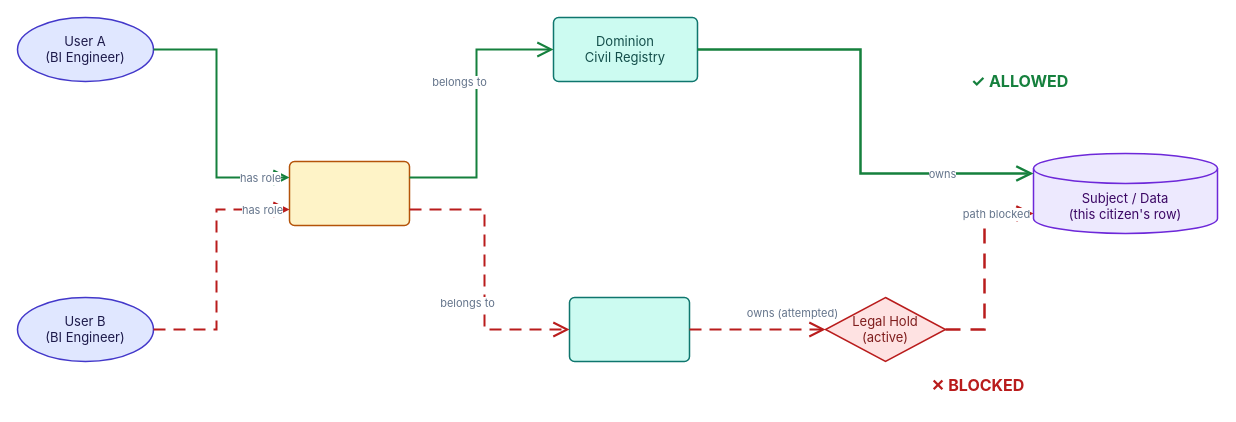
Some shapes in this 1236 by 422 pixel diagram are drawn without their labels. Here are the shapes that lost their labels. From the top down, the centre of each, then its label:
the point at 349,193: Role BI Engineer
the point at 629,329: Dominion Tax
